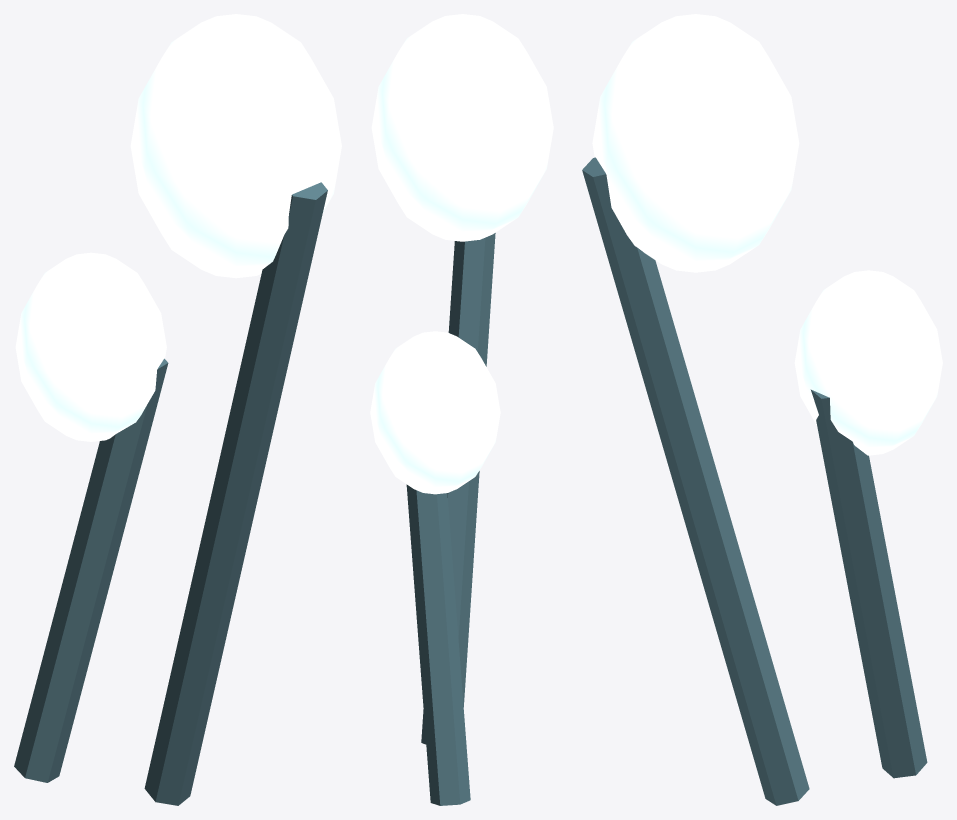
Rendered from flora_2.glb.
The picture shows the model from 3 angles, left to right: view 1: azimuth 30°, elevation 25°; view 2: azimuth 150°, elevation 25°; view 3: azimuth 270°, elevation 25°; orthographic projection. The views are drawn at different scales.
Parts seen in each view (by area): view 1: Cylinder; view 2: Cylinder; view 3: Cylinder.
Part boxes in pixels (box(x1,y1,x2,y2)): Cylinder: box(14, 14, 341, 805); Cylinder: box(370, 14, 553, 805); Cylinder: box(582, 14, 942, 805).
Size of the model in its own units: 0.3183 by 1.15 by 0.4752.
